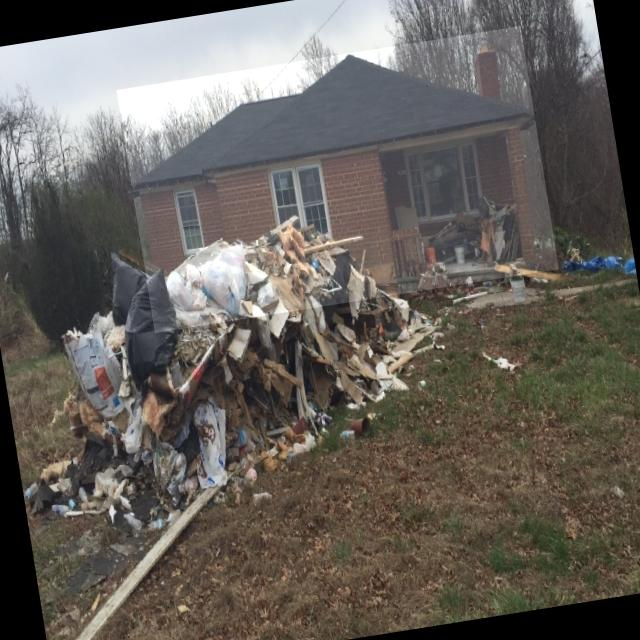House: (116, 26, 558, 333)
